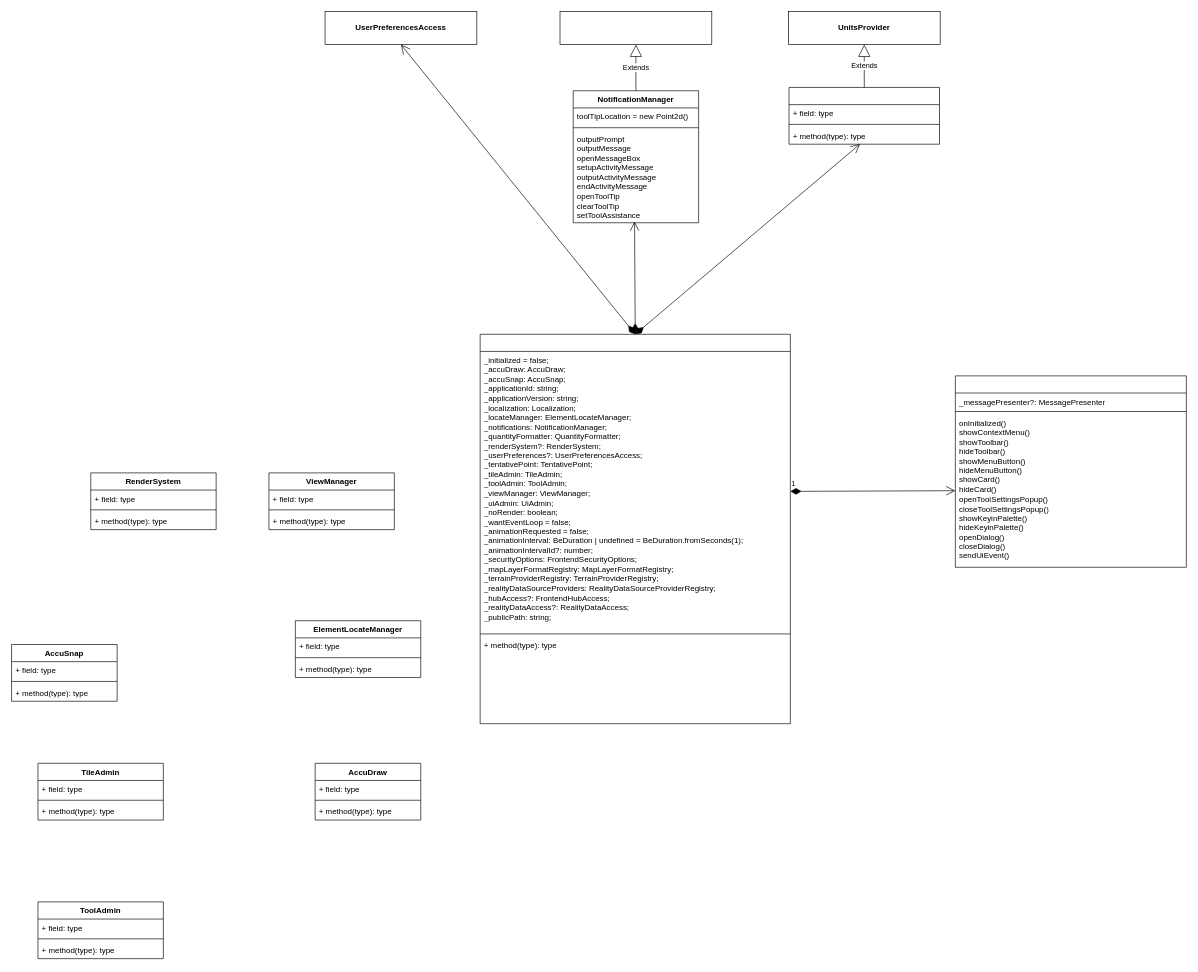
Image size: 1198x972. Some labels were removed from this diagram. The box of each missing label's shape, as (x1, y1, x2, y2) in pixels:
IModelApp: (479, 334, 790, 724)
MessagePresenter: (559, 11, 712, 45)
QuantityFormatter: (788, 87, 940, 144)
UiAdmin: (955, 375, 1186, 567)
